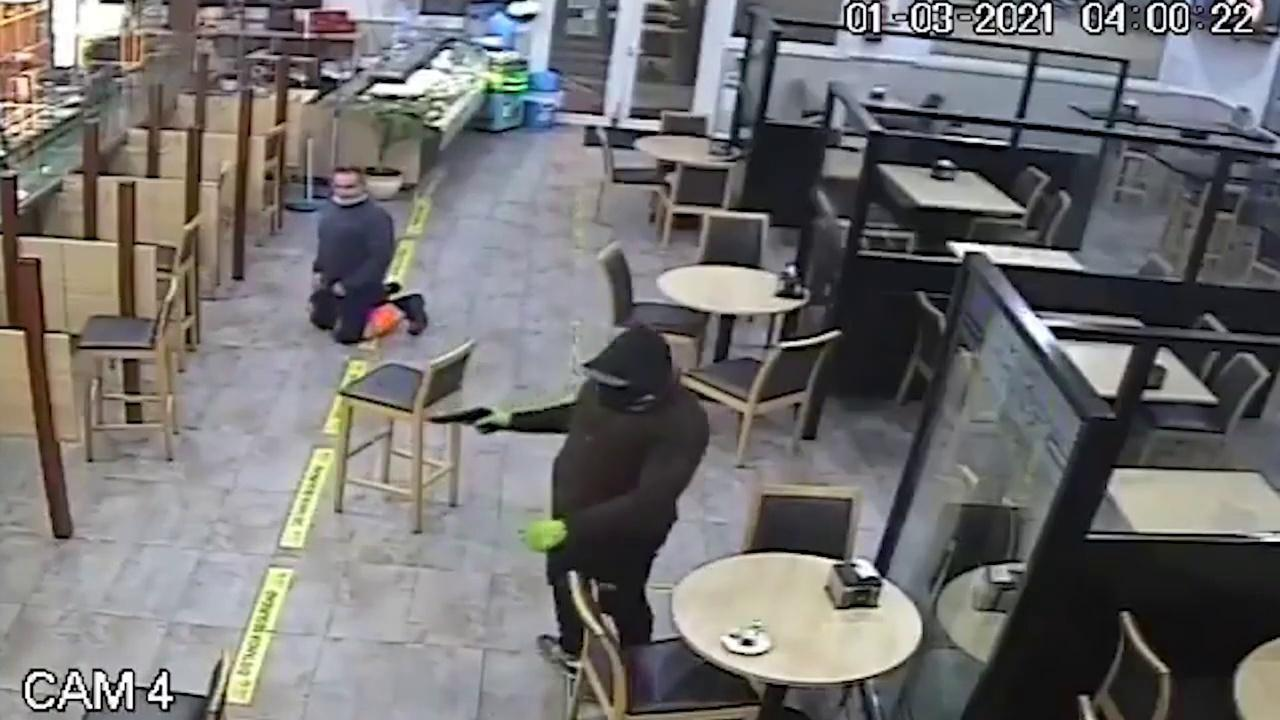Guns: (410, 395, 520, 457)
